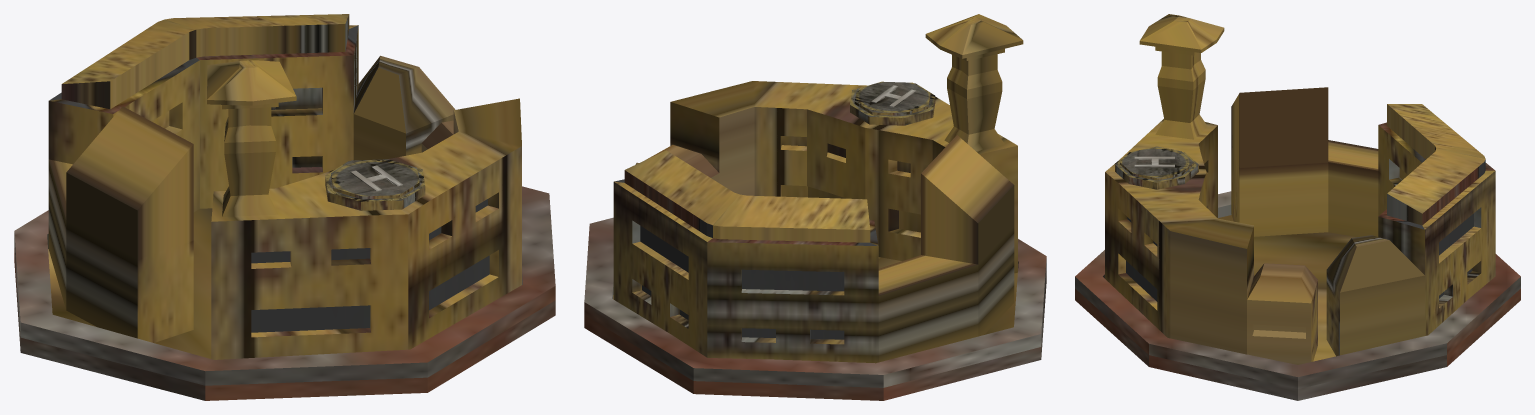
3 views of the same model, side by side, from view 1: azimuth 30°, elevation 25°; view 2: azimuth 150°, elevation 25°; view 3: azimuth 270°, elevation 25° (orthographic). The views are drawn at different scales.
Visible parts, largest first — view 1: OilRig.001; view 2: OilRig.001; view 3: OilRig.001.
Boxes of the visible parts, x1,y1,x2,y2 form: OilRig.001: [14, 14, 555, 400]; OilRig.001: [584, 14, 1046, 400]; OilRig.001: [1075, 14, 1520, 400].
Size of the model in its own units: 17 by 9.38 by 15.9.
